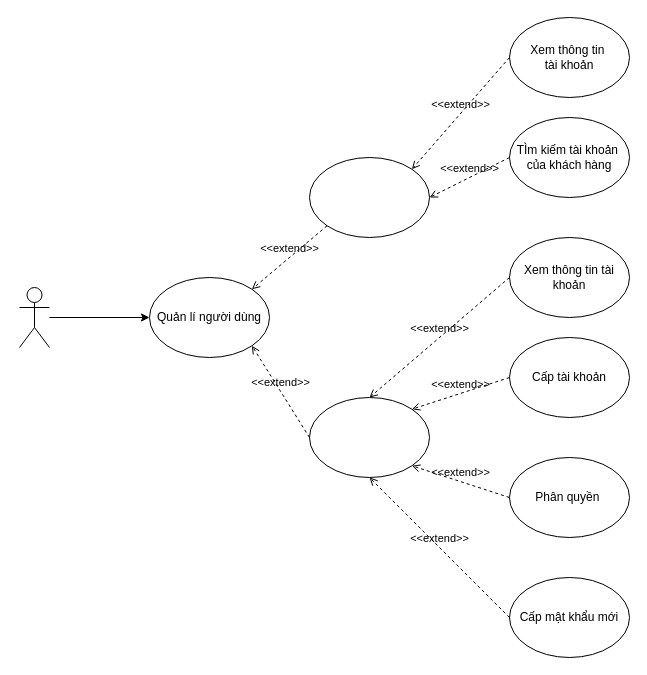
This 647x675 diagram has some shape labels left out. The shapes that lost their labels are listed below. From the top down, each one's centre as x and y in pixels, then its label:
the point at 369,197: Quản lí tài khoản khách hàng
the point at 34,317: Admin
the point at 369,437: Quản lí tài khoản nhân viên
